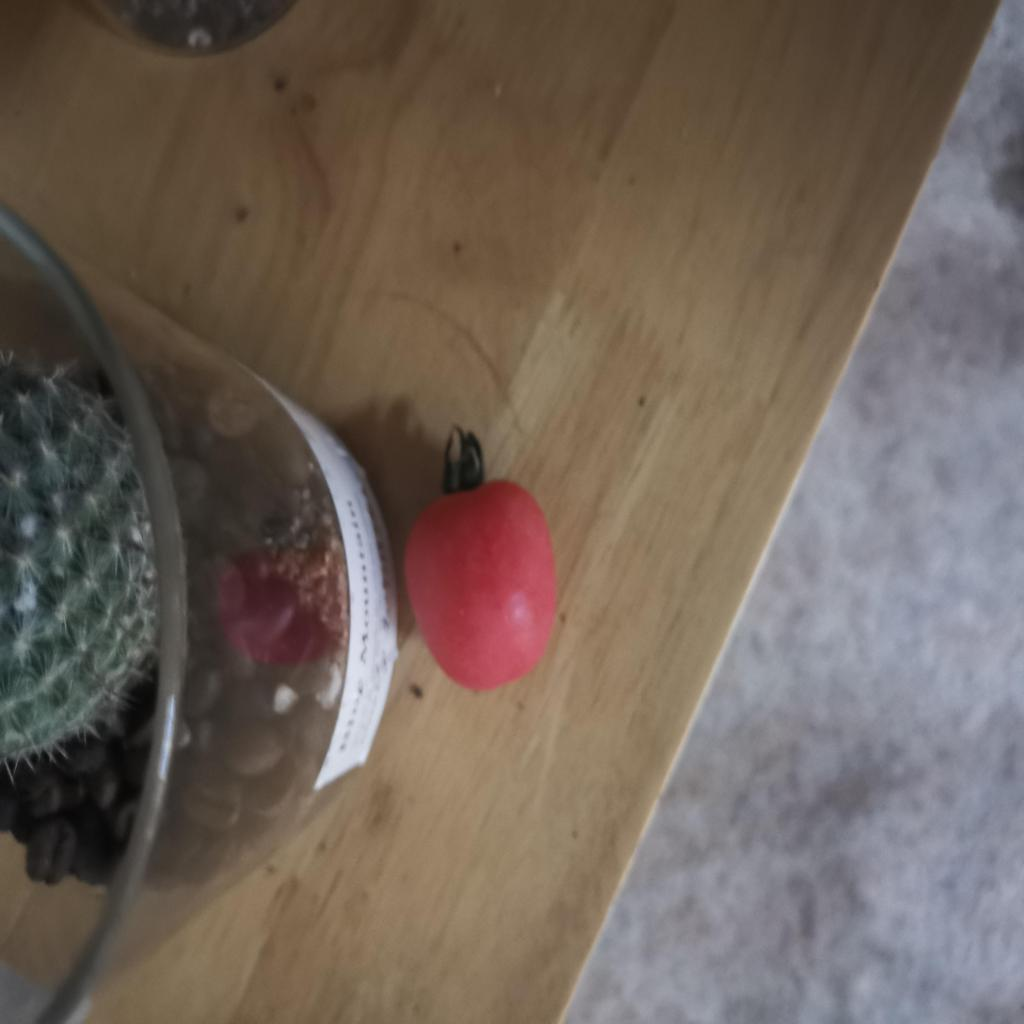tomato: (403, 470, 558, 689)
